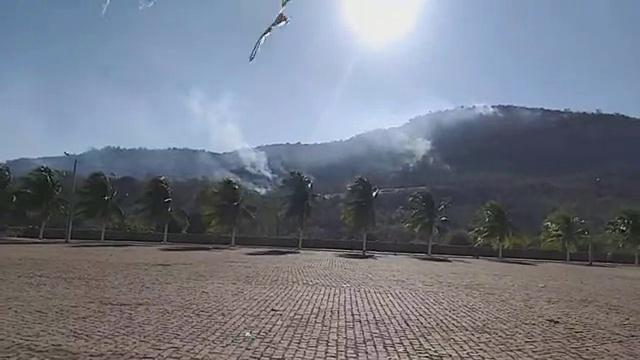smoke: (233, 136, 256, 166)
